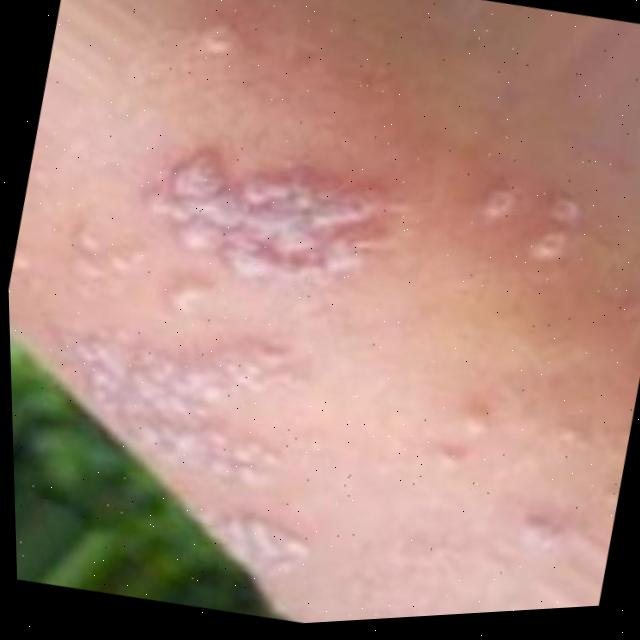Shingles: (26, 115, 410, 594), (471, 171, 586, 275)
